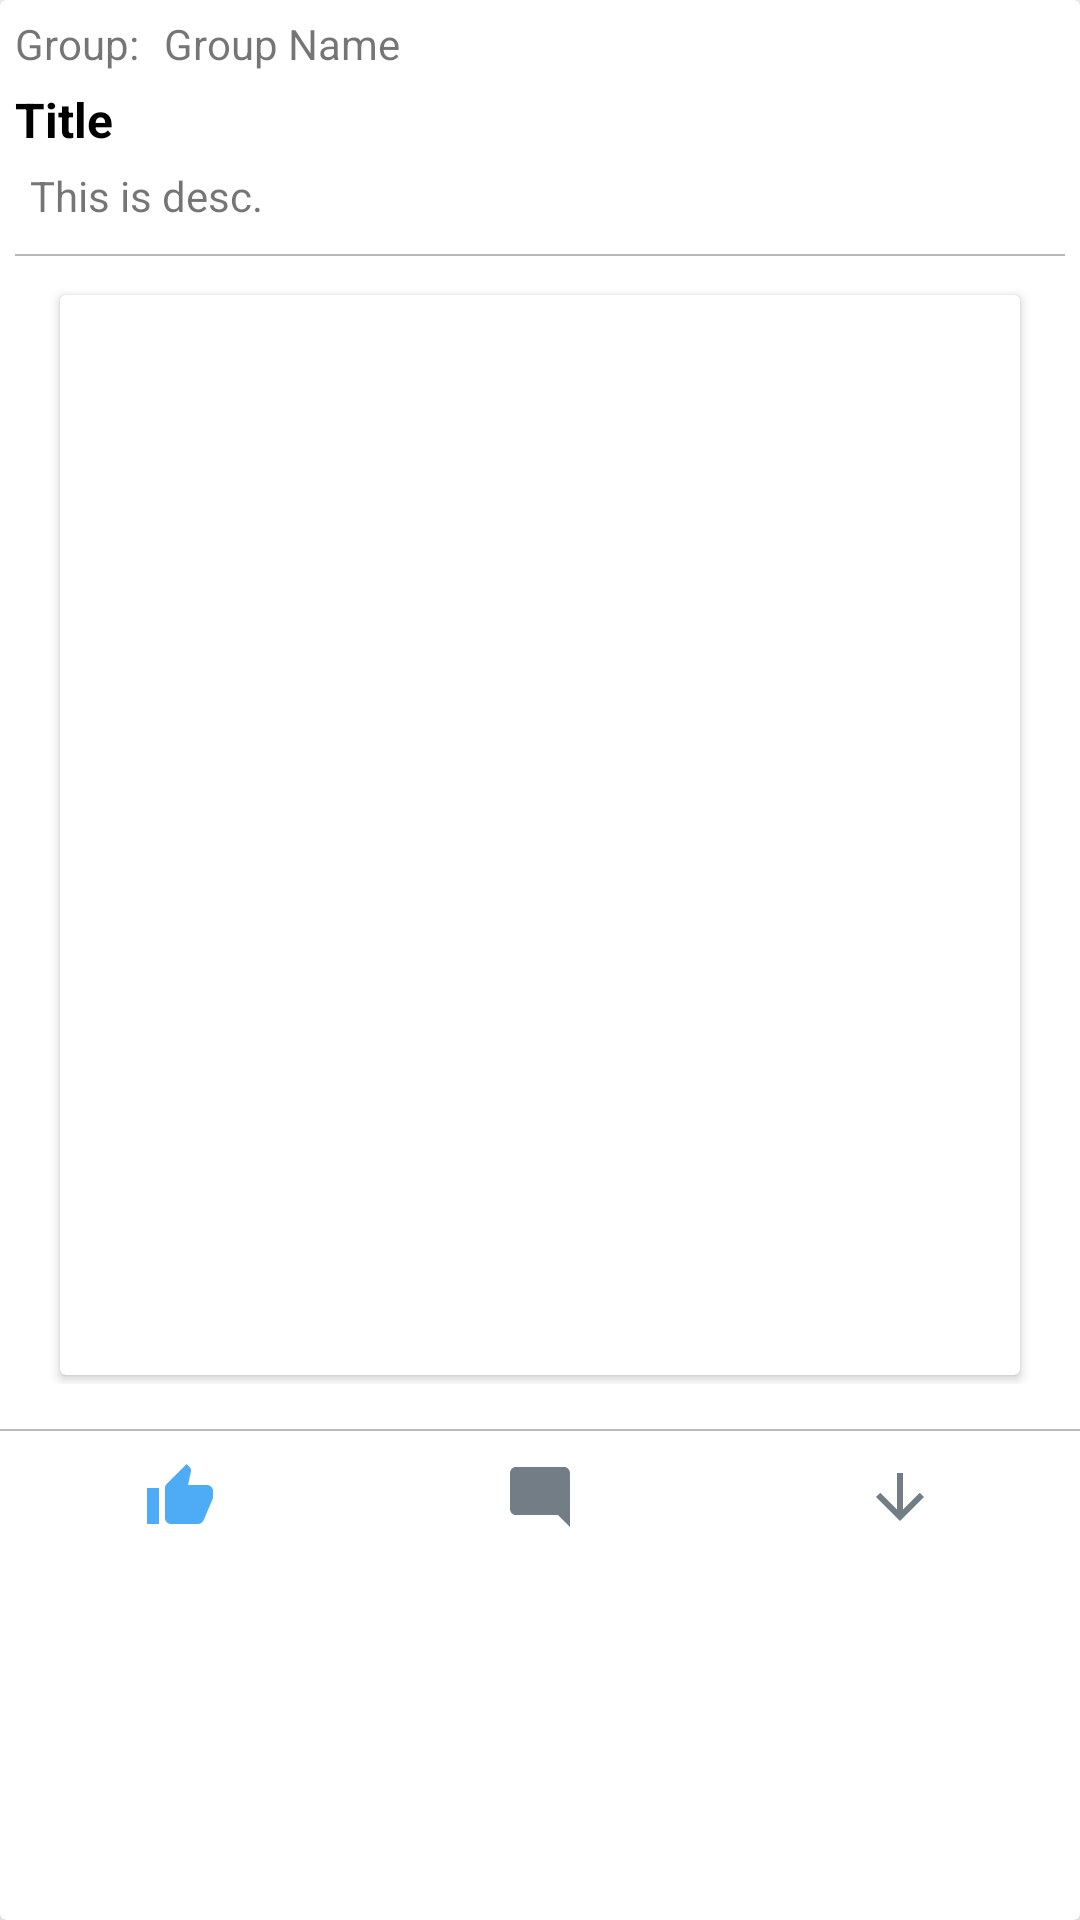

Icon bounding boxes for this 1080×1920 phone screenshot, format (x1, y1, x2, y2):
comment: (510, 1467, 570, 1527)
download: (876, 1473, 924, 1521)
thumb: (147, 1464, 213, 1524)
